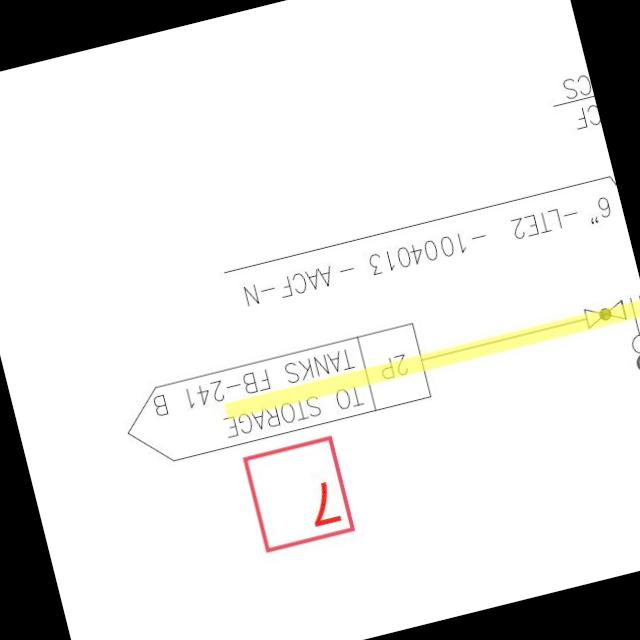BV2: (578, 293, 631, 332)
